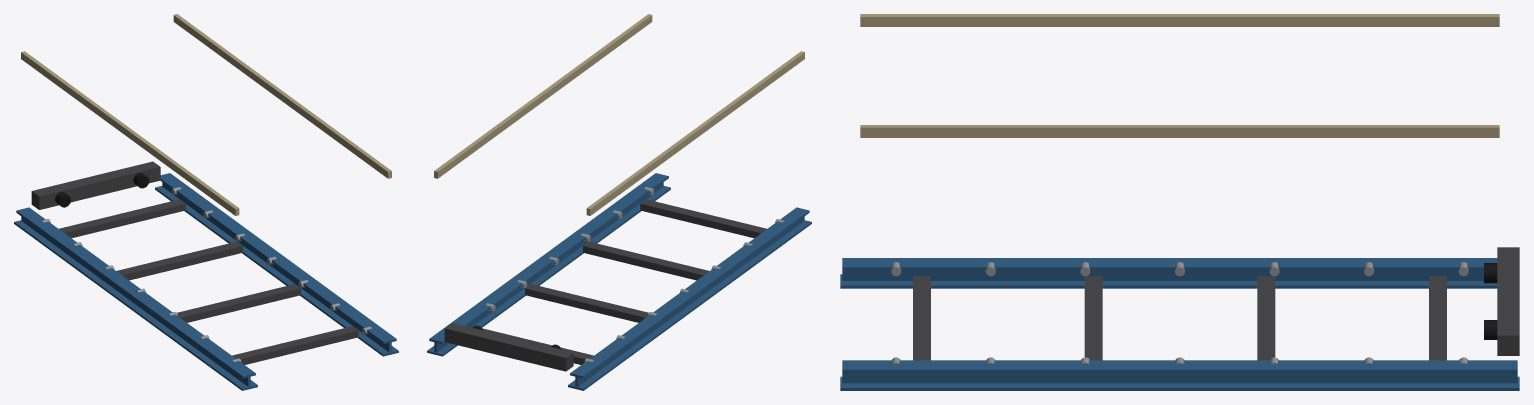
File: c20_rail.obj
The picture shows the model from 3 angles, left to right: view 1: azimuth 30°, elevation 25°; view 2: azimuth 150°, elevation 25°; view 3: azimuth 270°, elevation 25°; orthographic projection. The views are drawn at different scales.
Parts seen in each view (by area): view 1: c20_rail; view 2: c20_rail; view 3: c20_rail.
Part boxes in pixels (x1,y1,x2,y2): c20_rail: [14, 14, 398, 390]; c20_rail: [427, 14, 811, 390]; c20_rail: [840, 14, 1519, 390].
Size of the model in its own units: 2.4 by 2.59 by 6.06.
